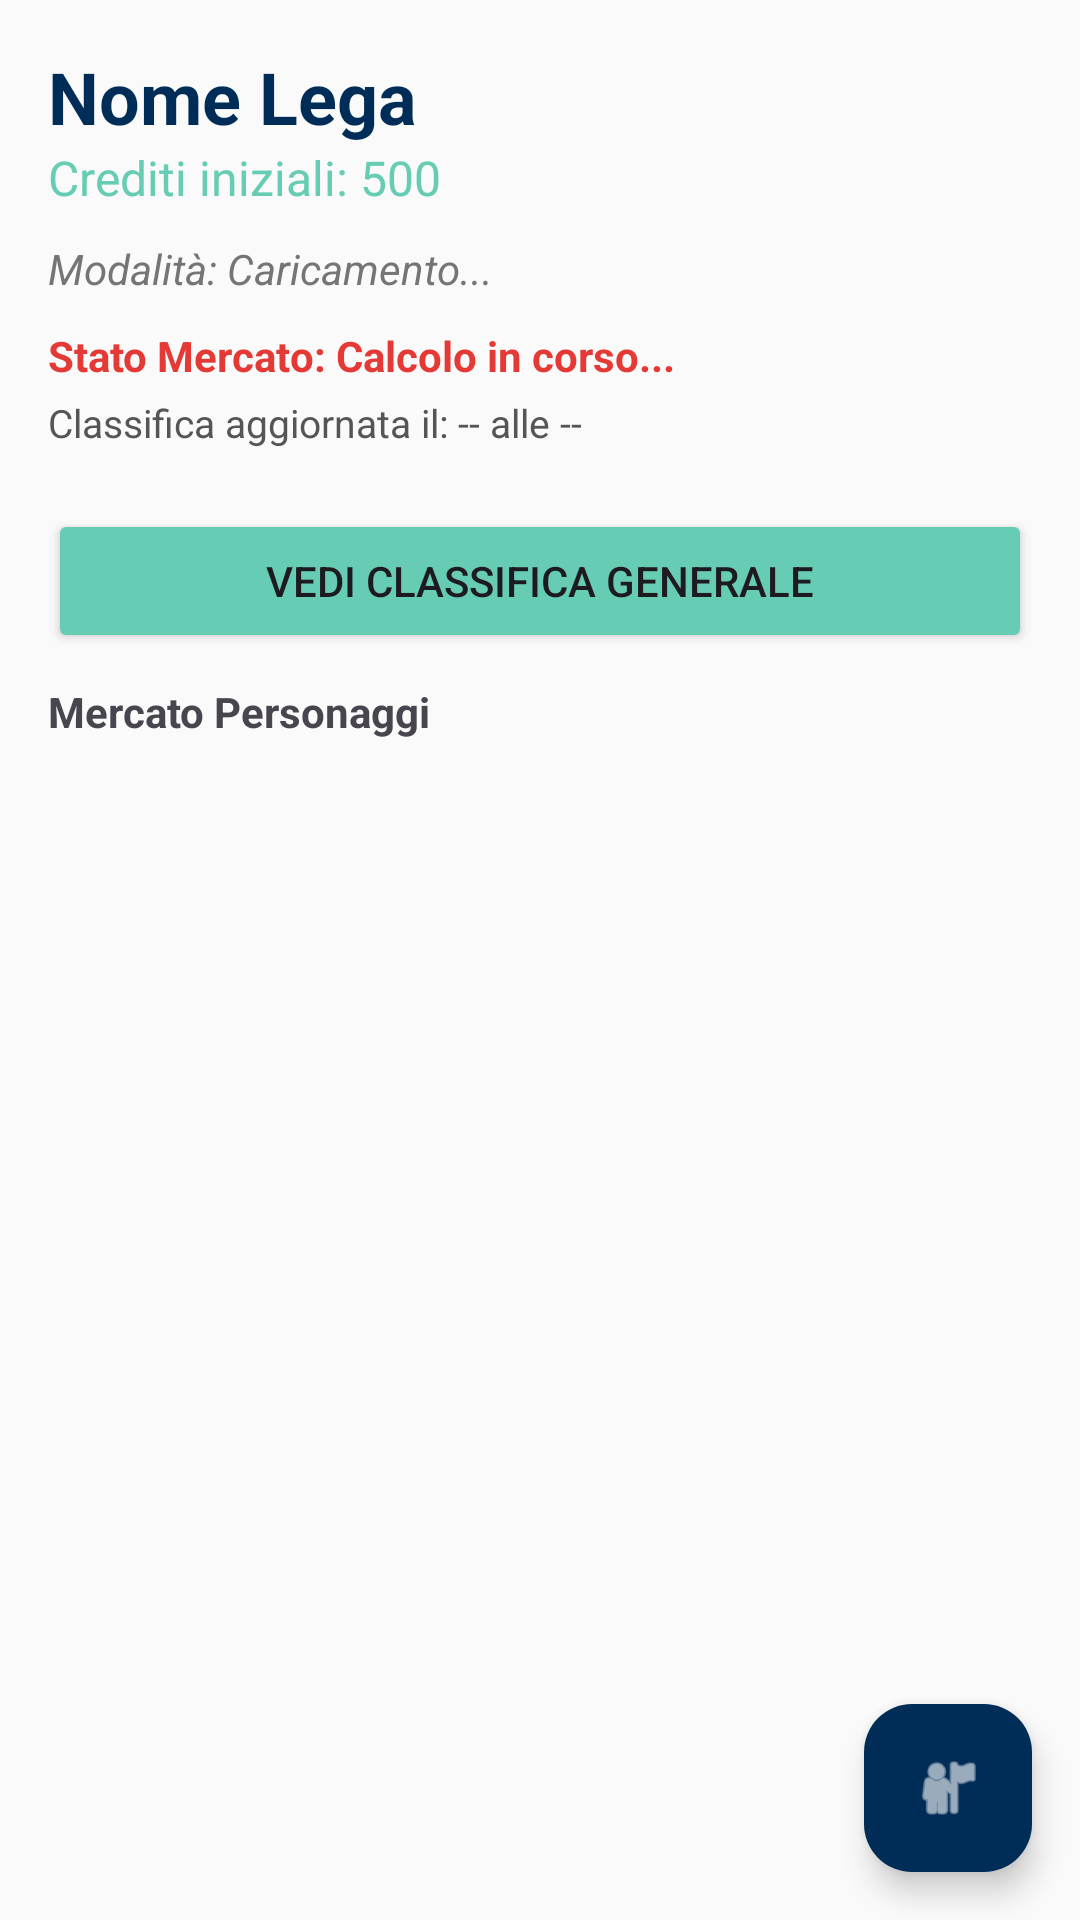

Icon click points for this 1080px×1920px phone screenshot, format (x,y):
myplaces: (948,1788)
